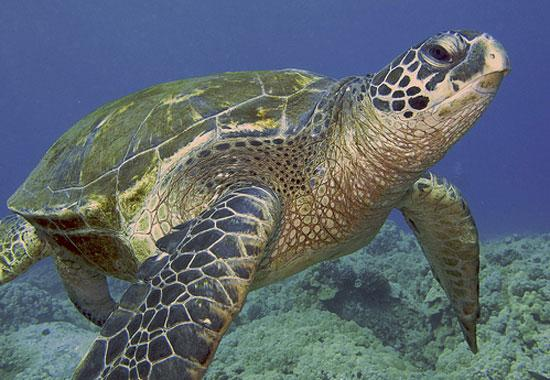turtle: (366, 24, 514, 150)
